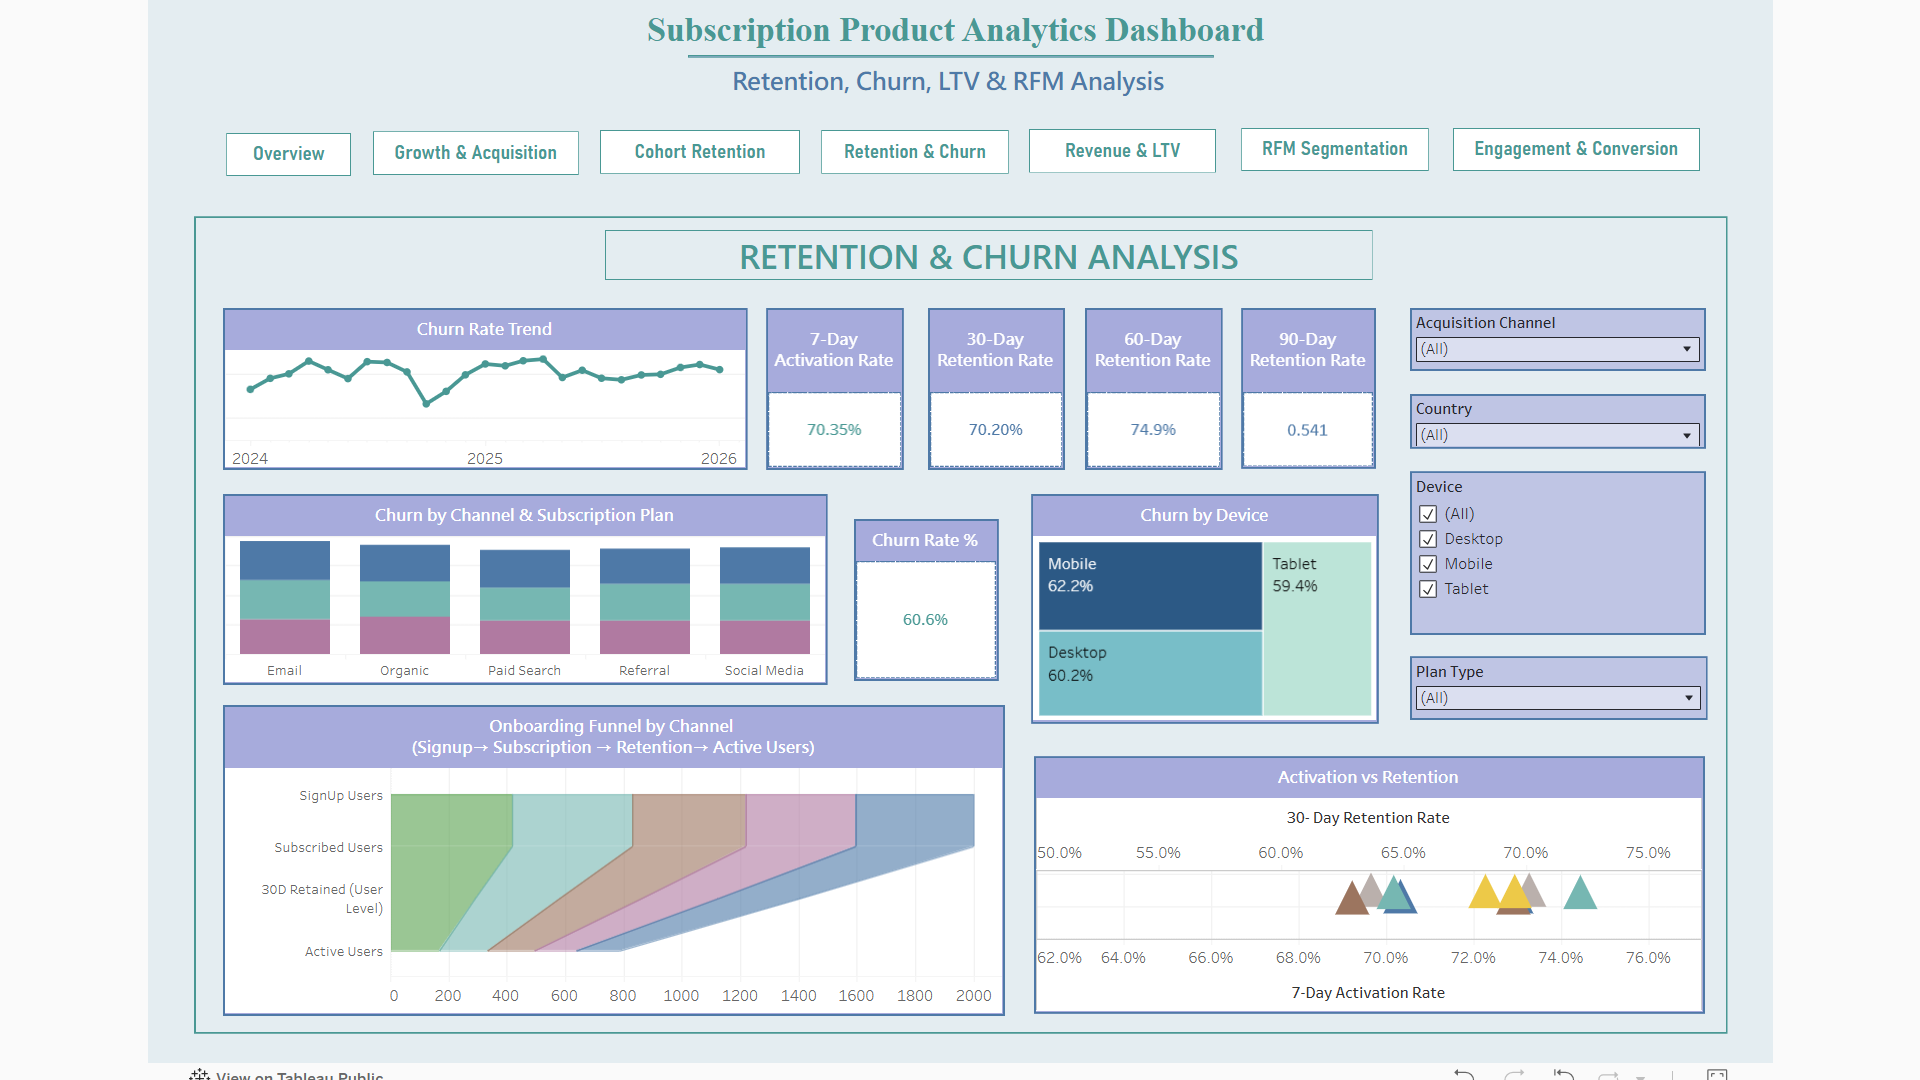

This screenshot's page, from the dashboard's own definition file:
{"tool":"tableau","page":{"name":"Retention & Churn","canvas":[1300,850],"ordinal":5},"visuals":[{"type":"blank","box":[432,44,421,2]},{"type":"text","box":[347,50,587,28]},{"type":"blank","box":[56,99,1191,45]},{"type":"dashboard-object","box":[875,102,150,35]},{"type":"dashboard-object","box":[1044,102,198,35]},{"type":"dashboard-object","box":[705,103,150,35]},{"type":"dashboard-object","box":[362,104,160,35]},{"type":"dashboard-object","box":[539,104,150,35]},{"type":"dashboard-object","box":[180,105,165,35]},{"type":"dashboard-object","box":[63,106,100,35]},{"type":"blank","box":[37,173,1227,654]},{"type":"text","box":[366,184,614,40]},{"type":"worksheet","title":"Churn Rate Trend","mark":"Automatic","rows":["Calculation_1112952098155970565"],"cols":["Start_Date"],"box":[60,246,420,130]},{"type":"worksheet","title":"7-Day Activation Rate","mark":"Automatic","box":[495,246,110,130]},{"type":"worksheet","title":"30-Day Retention Rate","mark":"Automatic","box":[624,246,110,130]},{"type":"worksheet","title":"60-Day Retention Rate","mark":"Automatic","box":[750,246,110,130]},{"type":"worksheet","title":"90-Day Retention Rate","mark":"Automatic","box":[875,246,108,129]},{"type":"filter","title":"Churn Rate Trend","param":"[federated.1vvcbkb1517lao19svhhh0a2soji].[none:Acquisition_Channel:nk]","box":[1010,246,237,51]},{"type":"filter","title":"Churn Rate Trend","param":"[federated.1vvcbkb1517lao19svhhh0a2soji].[none:Country:nk]","box":[1010,315,237,44]},{"type":"filter","title":"Churn Rate Trend","param":"[federated.1vvcbkb1517lao19svhhh0a2soji].[none:Device:nk]","box":[1010,377,237,131]},{"type":"worksheet","title":"Churn by Plan Type","mark":"Automatic","rows":["Calculation_1112952098155970565"],"cols":["Acquisition_Channel"],"box":[60,395,484,153]},{"type":"worksheet","title":"Churn by Device","mark":"Automatic","box":[707,395,278,184]},{"type":"worksheet","title":"Churn Rate","mark":"Automatic","box":[565,415,116,130]},{"type":"filter","title":"Churn Rate Trend","param":"[federated.1vvcbkb1517lao19svhhh0a2soji].[none:Plan_Type:nk]","box":[1010,525,238,51]},{"type":"worksheet","title":"Onboarding Funnel","mark":"Area","box":[60,564,626,249]},{"type":"worksheet","title":"Activation vs Retention by Channel","mark":"Automatic","rows":["Calculation_1112952098174984198"],"cols":["Calculation_1112952098534314022","Calculation_1112952098537480233"],"box":[709,605,537,206]}]}

Visuals, with their boxes in screenshot pixels (x1, y1, x2, y2):
blank: <bbox>681, 45, 1209, 48</bbox>
text: <bbox>575, 53, 1310, 88</bbox>
blank: <bbox>210, 114, 1703, 170</bbox>
dashboard-object: <bbox>1236, 118, 1424, 162</bbox>
dashboard-object: <bbox>1448, 118, 1696, 162</bbox>
dashboard-object: <bbox>1023, 119, 1211, 163</bbox>
dashboard-object: <bbox>594, 120, 794, 164</bbox>
dashboard-object: <bbox>815, 120, 1003, 164</bbox>
dashboard-object: <bbox>366, 122, 572, 165</bbox>
dashboard-object: <bbox>219, 123, 344, 167</bbox>
blank: <bbox>186, 207, 1724, 1026</bbox>
text: <bbox>599, 221, 1368, 271</bbox>
"Churn Rate Trend" worksheet: <bbox>215, 298, 741, 461</bbox>
"7-Day Activation Rate" worksheet: <bbox>760, 298, 898, 461</bbox>
"30-Day Retention Rate" worksheet: <bbox>922, 298, 1060, 461</bbox>
"60-Day Retention Rate" worksheet: <bbox>1080, 298, 1218, 461</bbox>
"90-Day Retention Rate" worksheet: <bbox>1236, 298, 1372, 460</bbox>
"Churn Rate Trend" filter: <bbox>1406, 298, 1703, 362</bbox>
"Churn Rate Trend" filter: <bbox>1406, 385, 1703, 440</bbox>
"Churn Rate Trend" filter: <bbox>1406, 462, 1703, 627</bbox>
"Churn by Plan Type" worksheet: <bbox>215, 485, 822, 677</bbox>
"Churn by Device" worksheet: <bbox>1026, 485, 1374, 715</bbox>
"Churn Rate" worksheet: <bbox>848, 510, 993, 673</bbox>
"Churn Rate Trend" filter: <bbox>1406, 648, 1704, 712</bbox>
"Onboarding Funnel" worksheet (Area marks): <bbox>215, 697, 1000, 1009</bbox>
"Activation vs Retention by Channel" worksheet: <bbox>1028, 748, 1701, 1006</bbox>
